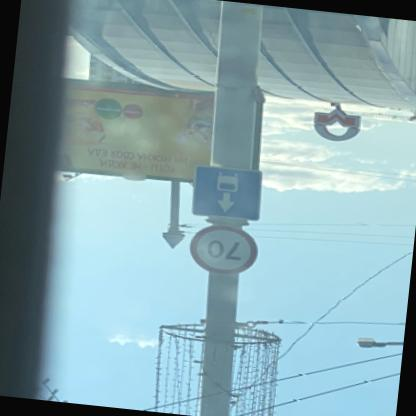speedlimit: (188, 222, 262, 278)
